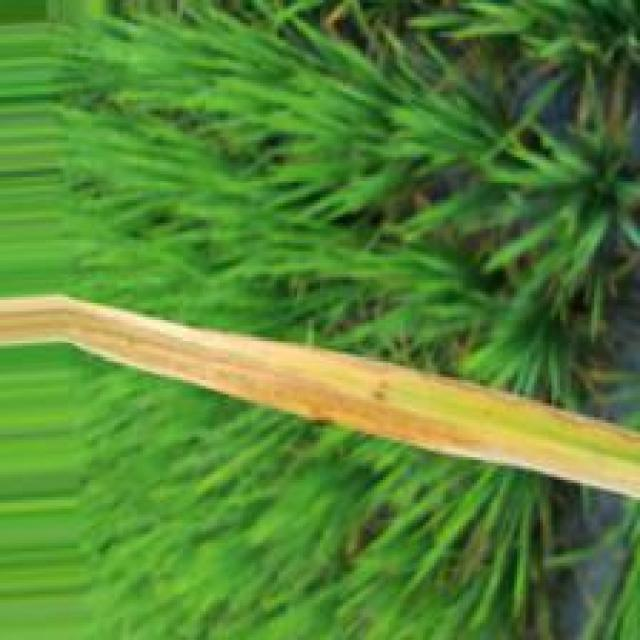Bacterial_Leaf_Blight: (64, 295, 471, 458)
